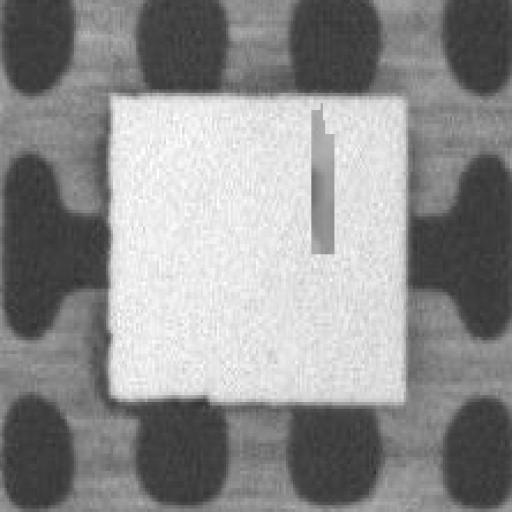DIE_INK: (460, 67, 495, 168)
